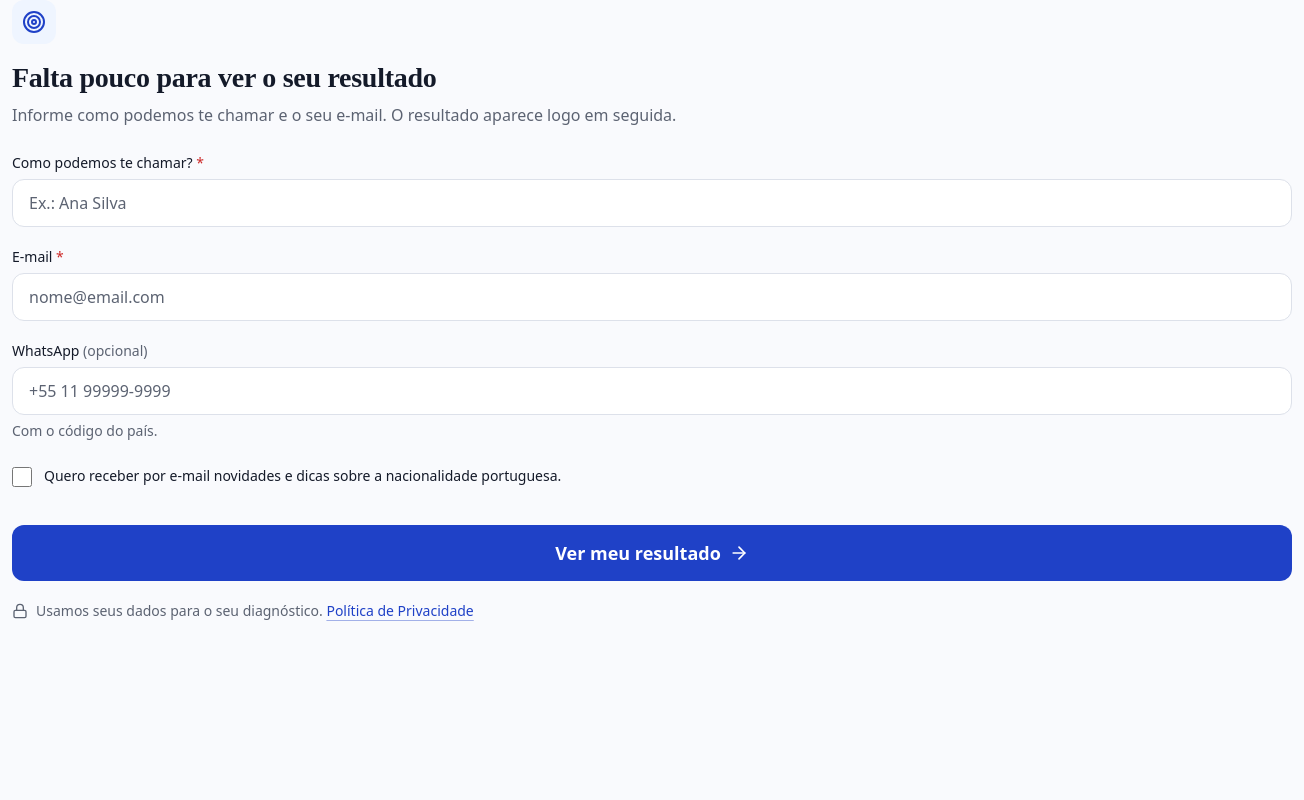
QuizCaptureForm (DI-043) › e-mail incompleto: mensagem própria; telefone opcional inválido também avisa
The width and height of the screenshot is (1304, 800).
Type "Ana" into the field labelled "Como podemos te chamar? *" at (652, 203), box [12,179,1292,227]
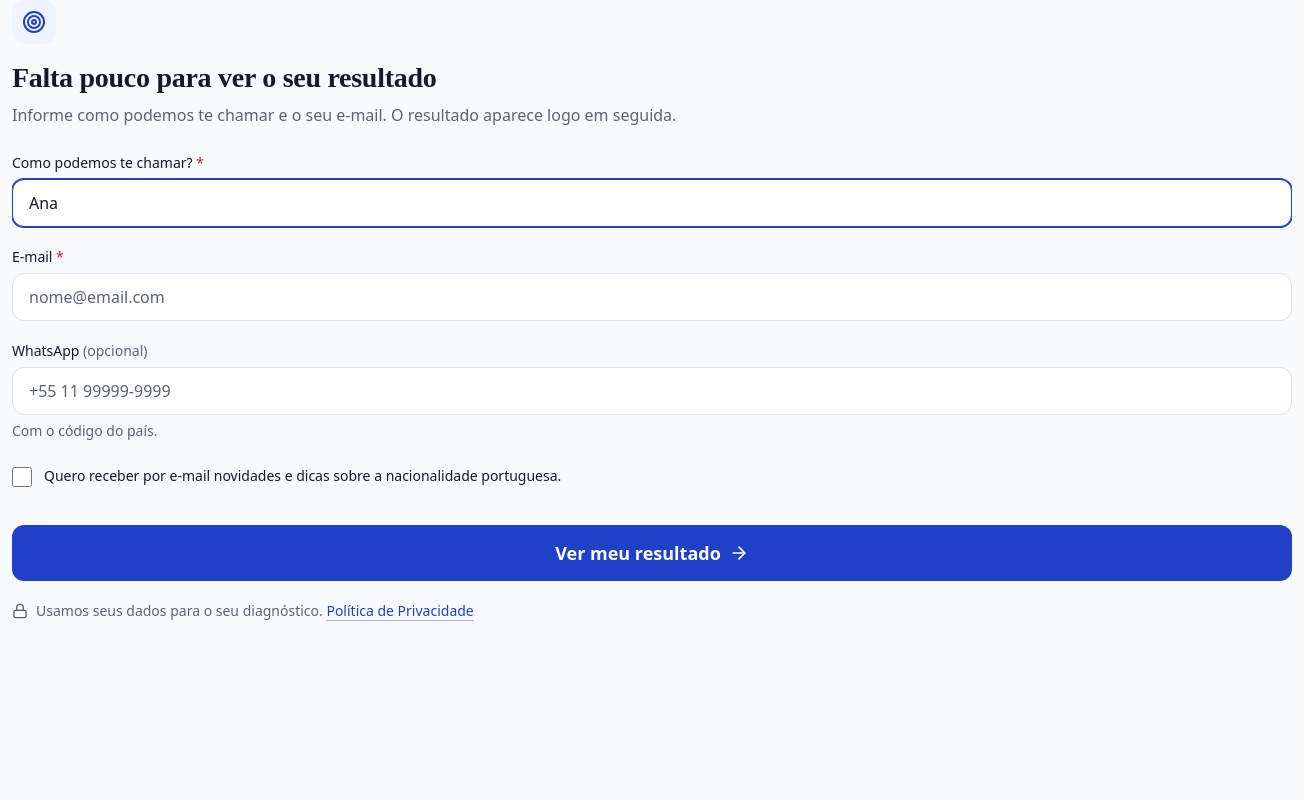
Type "ana@" into the field labelled "E-mail *" at (652, 297), box [12,273,1292,321]
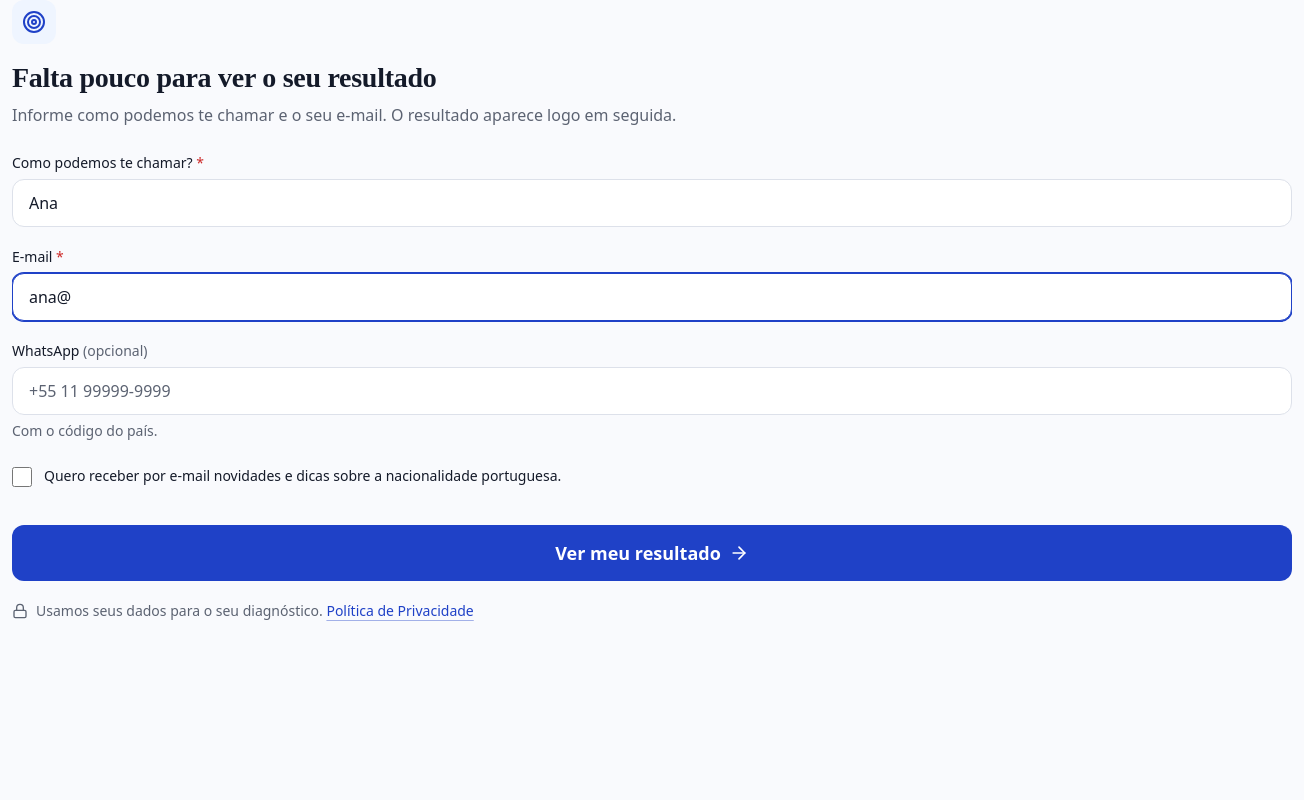
Type "12ab" into the field labelled "WhatsApp (opcional)" at (652, 391), box [12,367,1292,415]
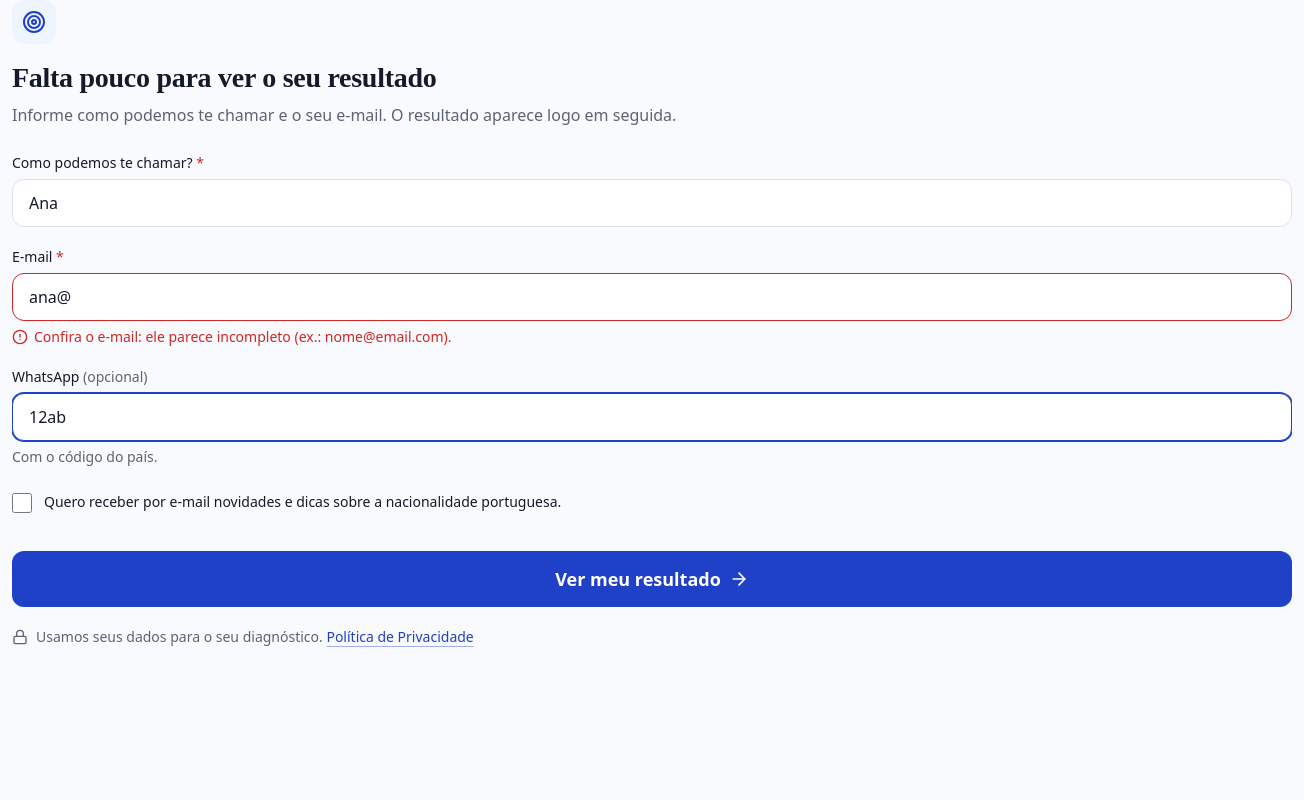
Click the button "Ver meu resultado" at (652, 579), box [12,551,1292,607]
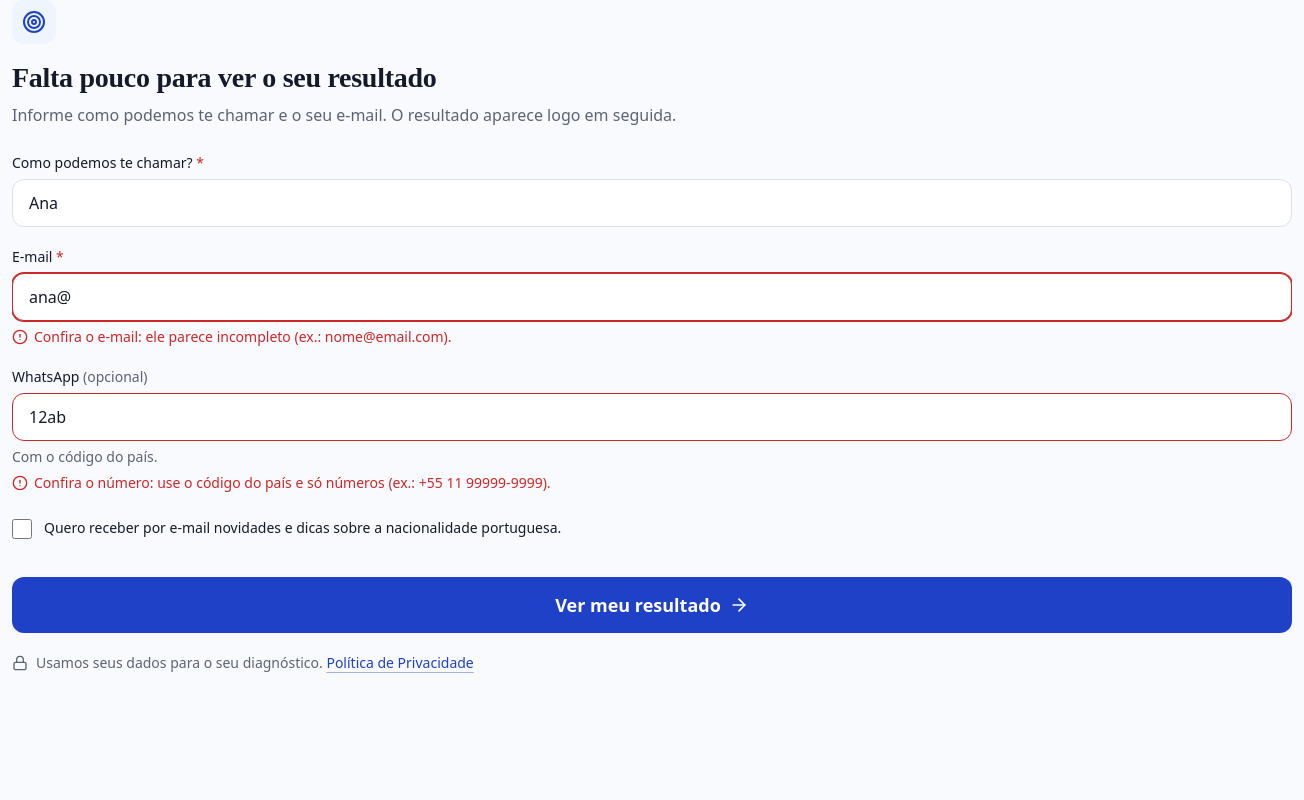
Result: the text "Confira o e-mail" is shown at [34,327,452,346]
Result: the text "Confira o número" is shown at [34,473,551,492]
